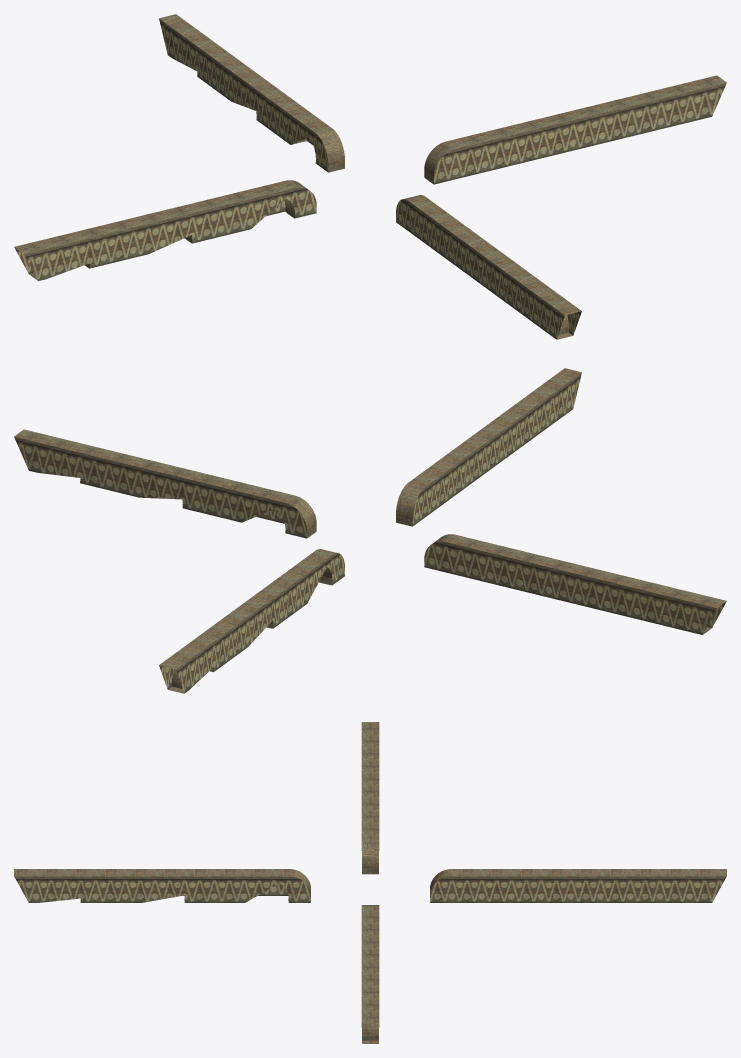
File: st001_spinner.fbx
The picture shows the model from 3 angles, top to bottom: view 1: azimuth 30°, elevation 25°; view 2: azimuth 150°, elevation 25°; view 3: azimuth 270°, elevation 25°; orthographic projection. The views are drawn at different scales.
Parts seen in each view (by area): view 1: Cube.004; view 2: Cube.004; view 3: Cube.004.
Boxes of the visible parts, left/top/right/bottom form: Cube.004: left=14, top=14, right=726, bottom=339; Cube.004: left=14, top=368, right=726, bottom=693; Cube.004: left=14, top=722, right=726, bottom=1043.
Bounding box in the file's own units: 9600 × 400 × 9600.
